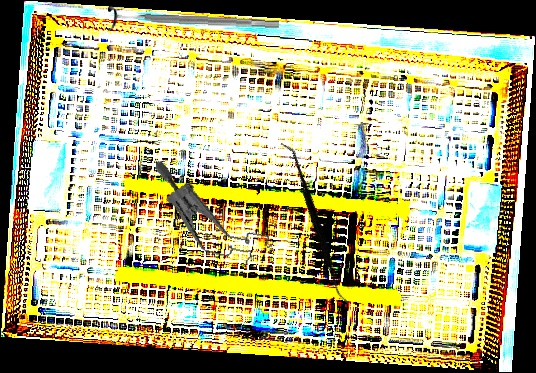Fixation Ring: (107, 5, 280, 38)
Spatula Surgical: (227, 140, 402, 307)
Speculum: (136, 159, 287, 271)
